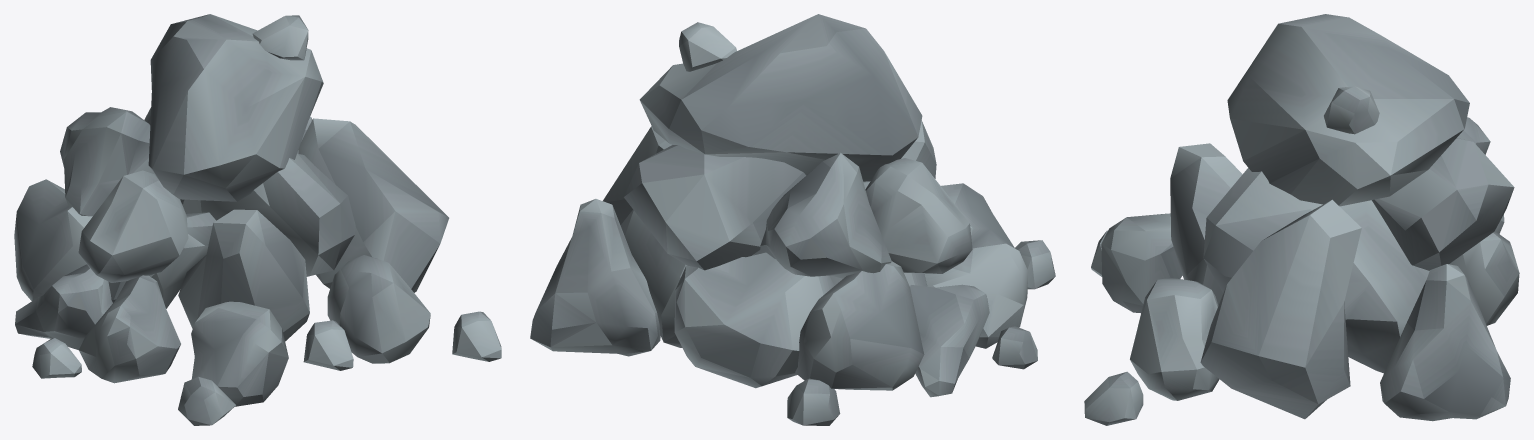
Rendered from stone_chunks_large.glb.
3 renders of one model, left to right at view 1: azimuth 30°, elevation 25°; view 2: azimuth 150°, elevation 25°; view 3: azimuth 270°, elevation 25°, orthographic. The views are drawn at different scales.
Parts seen in each view (by area): view 1: Stone_Chunks_Large; view 2: Stone_Chunks_Large; view 3: Stone_Chunks_Large.
Boxes of the visible parts, x1,y1,x2,y2 form: Stone_Chunks_Large: [14, 14, 501, 425]; Stone_Chunks_Large: [530, 14, 1055, 425]; Stone_Chunks_Large: [1084, 14, 1519, 425].
Size of the model in its own units: 1.5 by 1.08 by 1.35.
Materials: 1 (1 with a texture image).
